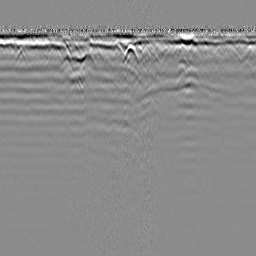cavity: (120, 41, 138, 63)
